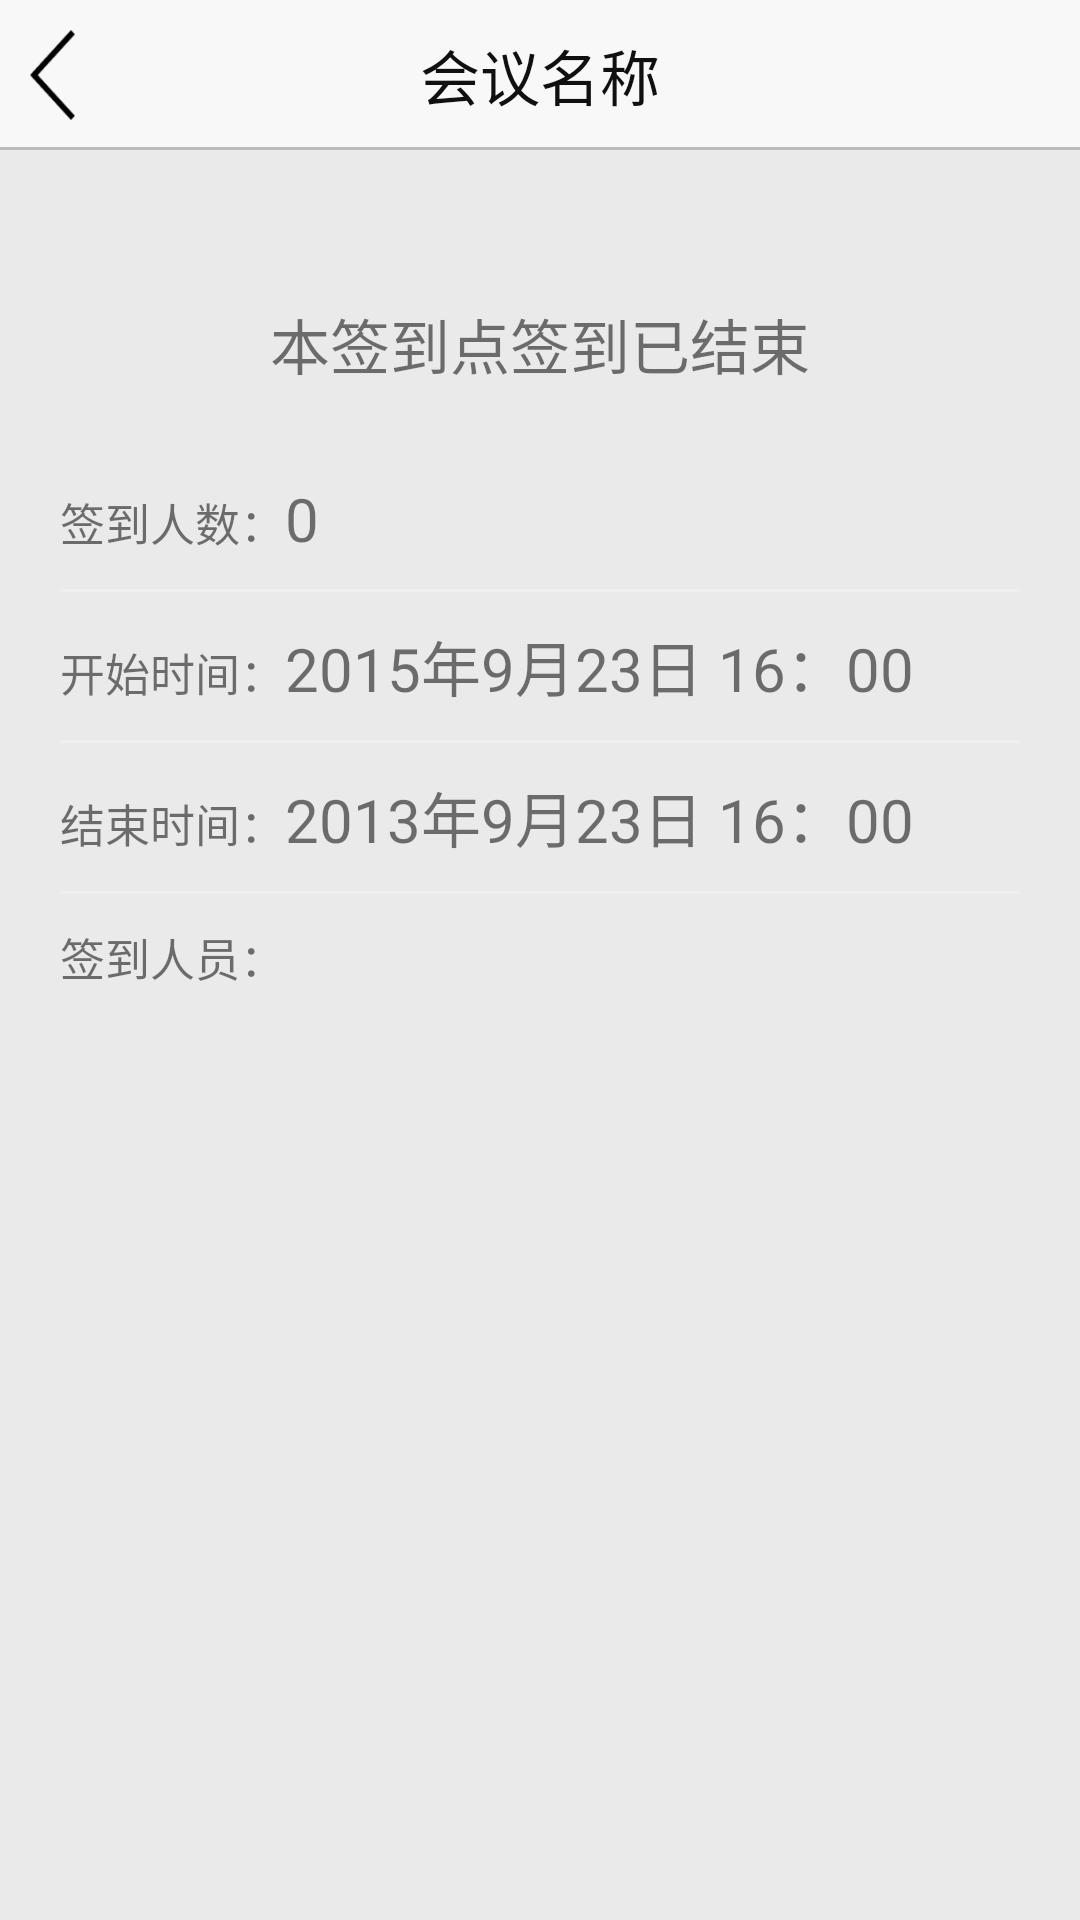

Icon click points for this 1080 × 1920 phone screenshot, format point (x, y):
back: point (52, 75)
